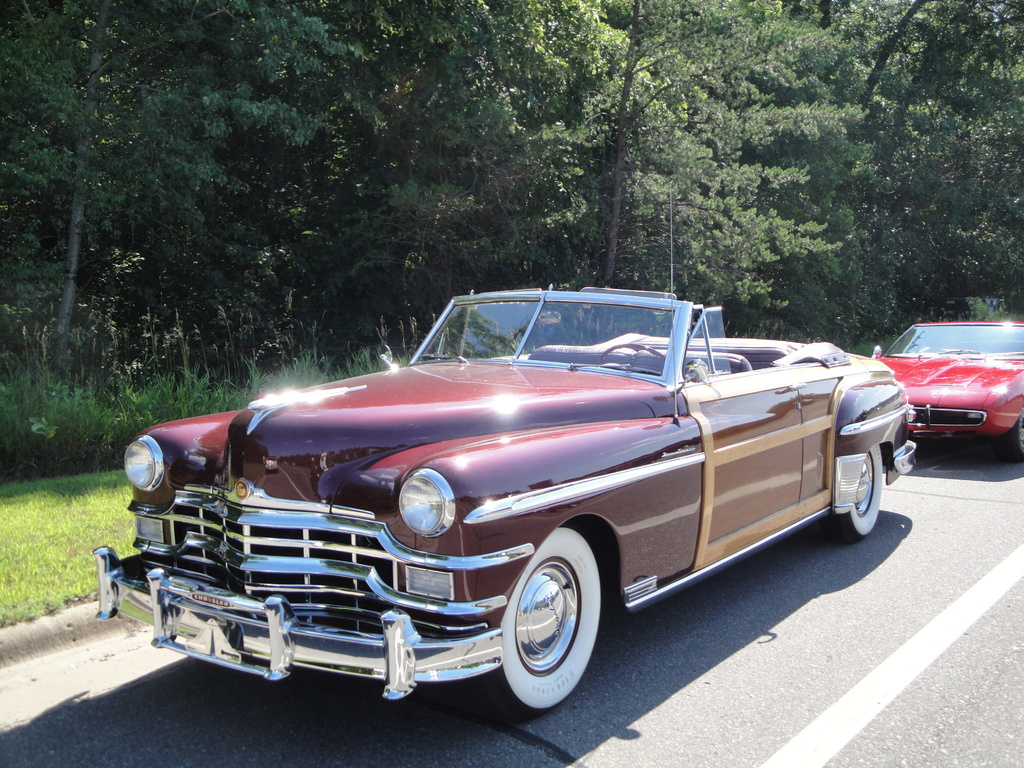cars: (102, 299, 912, 713), (868, 317, 1023, 456)
